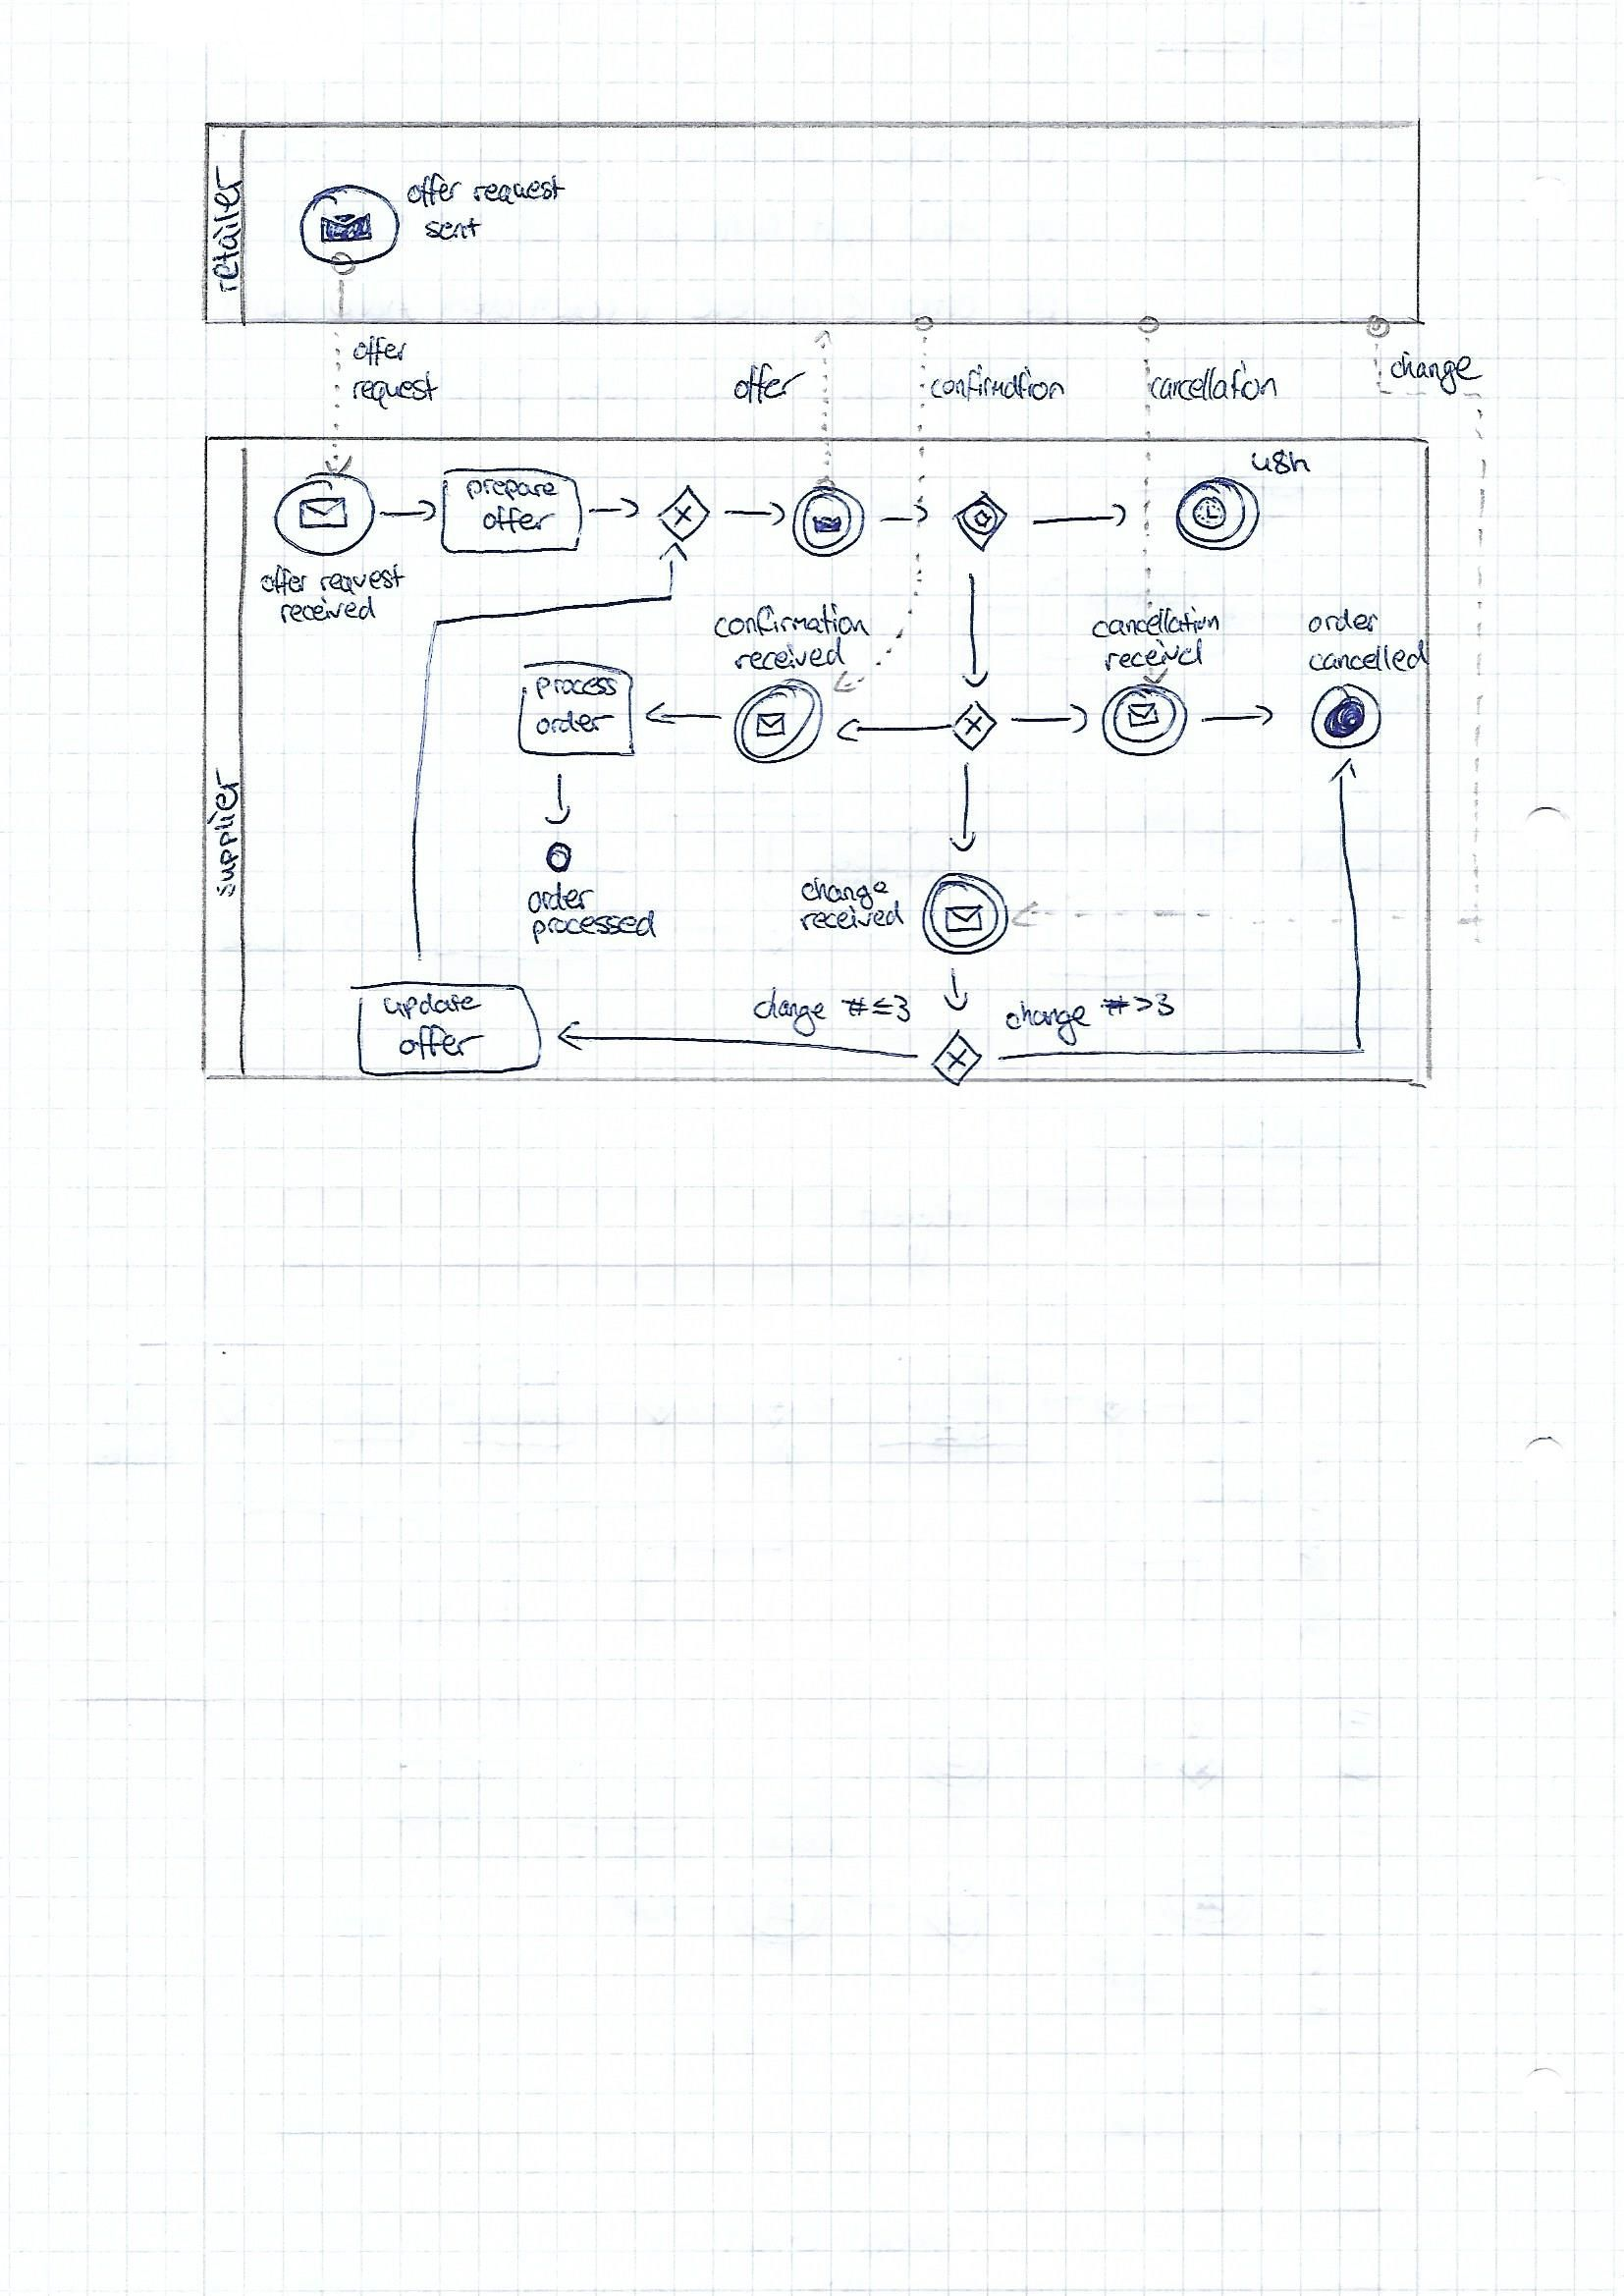#: (1098, 990, 1130, 1025), (842, 993, 872, 1025)
48: (1251, 441, 1288, 482)
<=3: (875, 992, 910, 1025)
>3: (1134, 985, 1172, 1018)
Supplier: (211, 777, 243, 897)
cancellation: (1139, 362, 1294, 411), (1093, 608, 1223, 643)
cancelled: (1308, 642, 1438, 677)
change: (1380, 346, 1480, 392), (749, 990, 840, 1028), (1000, 995, 1093, 1032), (800, 876, 893, 907)
confirmation: (919, 367, 1083, 408), (714, 610, 866, 643)
h: (1290, 443, 1311, 478)
offer: (731, 360, 803, 410), (399, 1027, 476, 1062), (480, 506, 550, 536), (348, 338, 411, 369), (402, 178, 462, 211), (262, 568, 306, 599)
order: (534, 708, 606, 740), (526, 884, 591, 914), (1309, 610, 1378, 636)
prepare: (466, 478, 559, 506)
process: (534, 675, 615, 701)
processed: (529, 912, 656, 944)
received: (1100, 640, 1207, 675), (798, 904, 907, 935), (733, 642, 847, 672), (279, 598, 383, 628)
request: (311, 563, 406, 599), (466, 174, 566, 207), (344, 374, 439, 410)
retailer: (209, 169, 246, 297)
sent: (425, 216, 487, 244)
update: (381, 986, 480, 1020)
